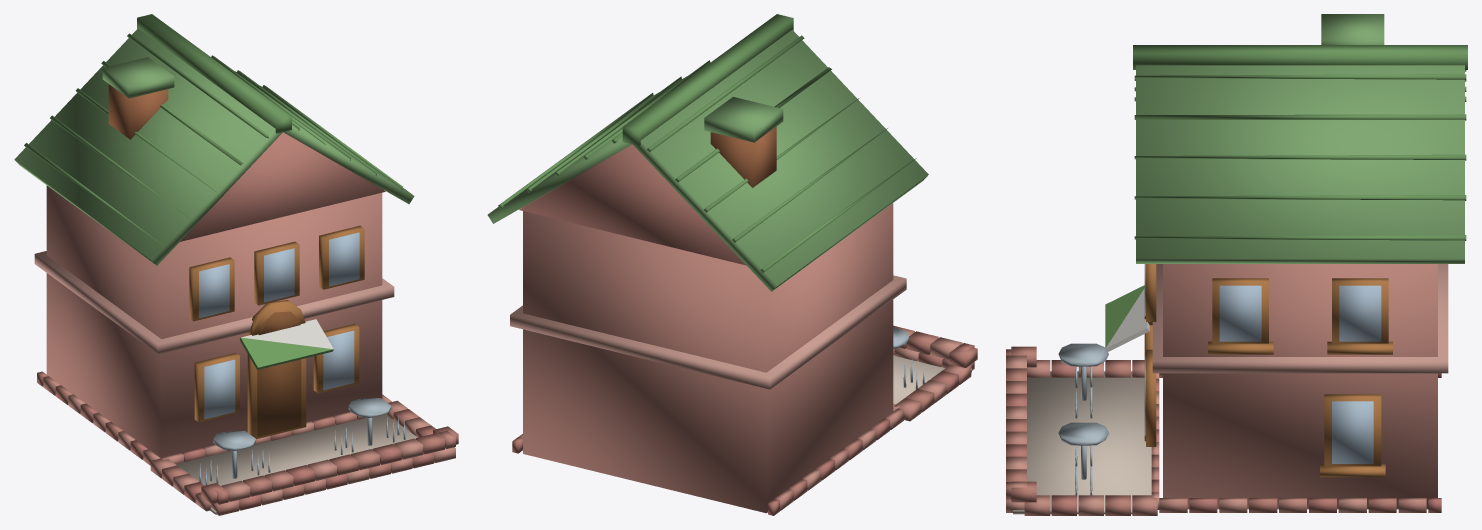
File: western.glb
3 views of the same model, side by side, from view 1: azimuth 30°, elevation 25°; view 2: azimuth 150°, elevation 25°; view 3: azimuth 270°, elevation 25° (orthographic). The views are drawn at different scales.
Parts seen in each view (by area): view 1: western; view 2: western; view 3: western.
Part boxes in pixels (x1,y1,x2,y2): western: (14,14,458,515); western: (487,14,977,515); western: (1006,14,1467,515).
Size of the model in its own units: 2.43 by 2.92 by 3.09.
